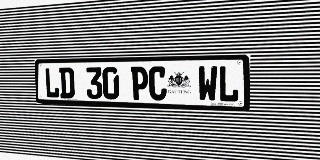0: (102, 67, 119, 99)
3: (86, 67, 102, 99)
C: (149, 66, 167, 101)
D: (59, 67, 75, 98)
L: (218, 65, 239, 102), (44, 68, 60, 98)
P: (131, 66, 148, 100)
W: (198, 66, 218, 102)
